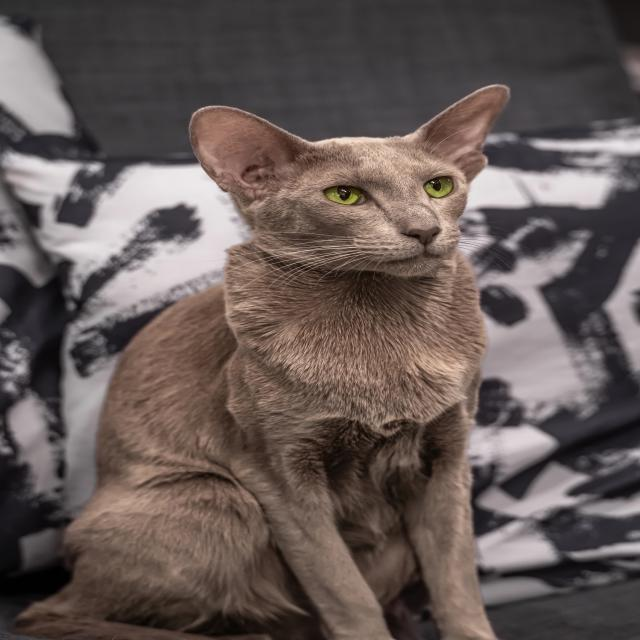Oriental: (0, 79, 542, 640)
